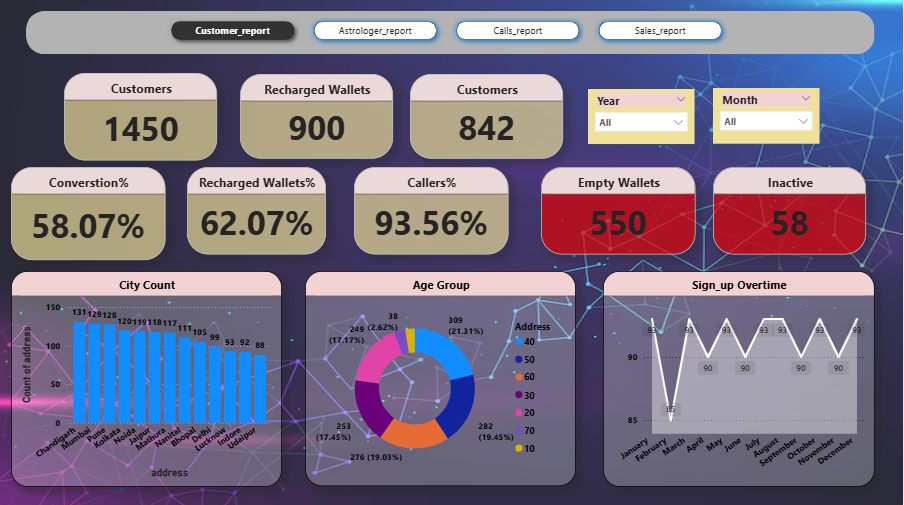

The page's visual inventory and layout, read from the dashboard file:
{"tool":"powerbi","page":{"name":"Customer_report","canvas":[1280,720],"ordinal":0},"visuals":[{"type":"card","title":"Customers","fields":{"Values":["All Measures.Total_customers_registered"]},"box":[92.2,108,217.4,123.8],"z":0},{"type":"card","title":"Recharged Wallets","fields":{"Values":["All Measures.Total_wallets"]},"box":[341.3,109.4,217.4,119.5],"z":1000},{"type":"card","title":"Customers","fields":{"Values":["All Measures.Active_customers"]},"box":[583.2,109.4,217.4,119.5],"z":2000},{"type":"card","title":"Recharged Wallets%","fields":{"Values":["All Measures.Wallet_recharge%"]},"box":[266.4,240.5,197.3,123.8],"z":3000},{"type":"card","title":"Callers%","fields":{"Values":["All Measures.Callers%_wallet"]},"box":[502.6,240.5,218.9,123.8],"z":4000},{"type":"card","title":"Converstion%","fields":{"Values":["All Measures.Customer_converstion%"]},"box":[17.3,240.5,218.9,132.5],"z":5000},{"type":"card","title":"Empty Wallets","fields":{"Values":["All Measures.Empty_wallets"]},"box":[767.5,240.5,218.9,123.8],"z":6000},{"type":"card","title":"Inactive","fields":{"Values":["All Measures.Inactive"]},"box":[1012.3,240.5,217.4,123.8],"z":7000},{"type":"columnChart","title":"City Count","fields":{"Category":["cust.address"],"Y":["CountNonNull(cust.address)"]},"box":[17,388.3,384.1,306.1],"z":8000},{"type":"donutChart","title":"Age Group","fields":{"Category":["cust.Age_Groups"],"Y":["CountNonNull(cust.address)"]},"box":[433.4,388.8,384.5,305.3],"z":9000},{"type":"slicer","fields":{"Values":["Date.Date.Variation.Date Hierarchy.Year"]},"box":[835.2,131,151.2,77.8],"z":10000},{"type":"slicer","fields":{"Values":["Date.Date.Variation.Date Hierarchy.Month"]},"box":[1012.3,129.6,151.2,79.2],"z":11000},{"type":"lineChart","title":"Sign_up Overtime","fields":{"Category":["cust.date_signup.Variation.Date Hierarchy.Month"],"Y":["CountNonNull(cust.date_signup.Variation.Date Hierarchy.Month)"]},"box":[856.7,388,384.7,305.7],"z":12000},{"type":"shape","box":[38.6,20,1202.8,61.5],"z":13000},{"type":"pageNavigator","box":[236,25.7,799.5,44.3],"z":14000}]}

Visuals, with their boxes in screenshot pixels (x1, y1, x2, y2), scaled from the page's 1280x720 canvas onto the 904x505 screenshot:
"Customers" card: [x1=65, y1=76, x2=219, y2=163]
"Recharged Wallets" card: [x1=241, y1=77, x2=395, y2=161]
"Customers" card: [x1=412, y1=77, x2=565, y2=161]
"Recharged Wallets%" card: [x1=188, y1=169, x2=327, y2=256]
"Callers%" card: [x1=355, y1=169, x2=510, y2=256]
"Converstion%" card: [x1=12, y1=169, x2=167, y2=262]
"Empty Wallets" card: [x1=542, y1=169, x2=697, y2=256]
"Inactive" card: [x1=715, y1=169, x2=868, y2=256]
"City Count" columnChart: [x1=12, y1=272, x2=283, y2=487]
"Age Group" donutChart: [x1=306, y1=273, x2=578, y2=487]
slicer - Date.Date.Variation.Date Hierarchy.Year: [x1=590, y1=92, x2=697, y2=146]
slicer - Date.Date.Variation.Date Hierarchy.Month: [x1=715, y1=91, x2=822, y2=146]
"Sign_up Overtime" lineChart: [x1=605, y1=272, x2=877, y2=487]
shape: [x1=27, y1=14, x2=877, y2=57]
pageNavigator: [x1=167, y1=18, x2=731, y2=49]
